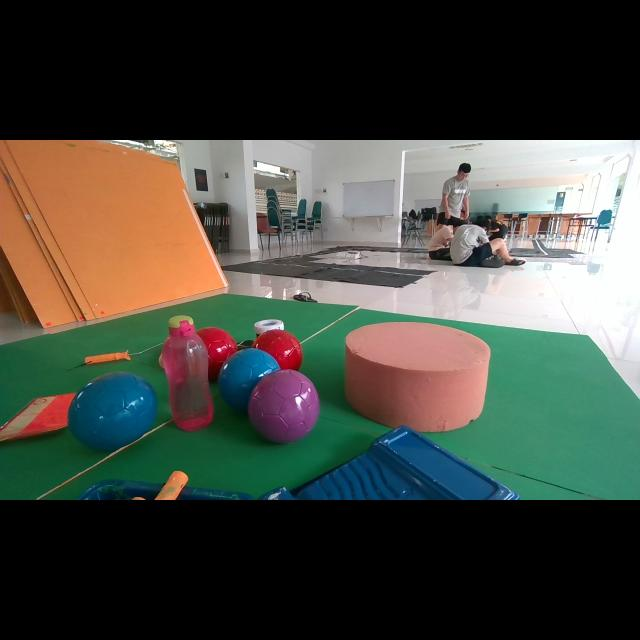B: (68, 372, 158, 450), (219, 349, 280, 411)
P: (248, 370, 320, 442)
R: (196, 328, 238, 381), (252, 330, 302, 369)
